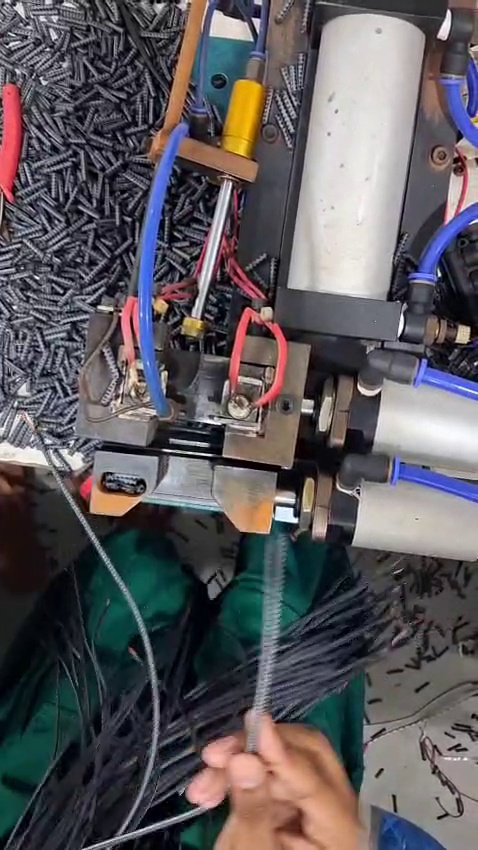intact_wire: (253, 527, 303, 636)
machine: (64, 293, 321, 530)
peeled_wire: (10, 400, 66, 468)
